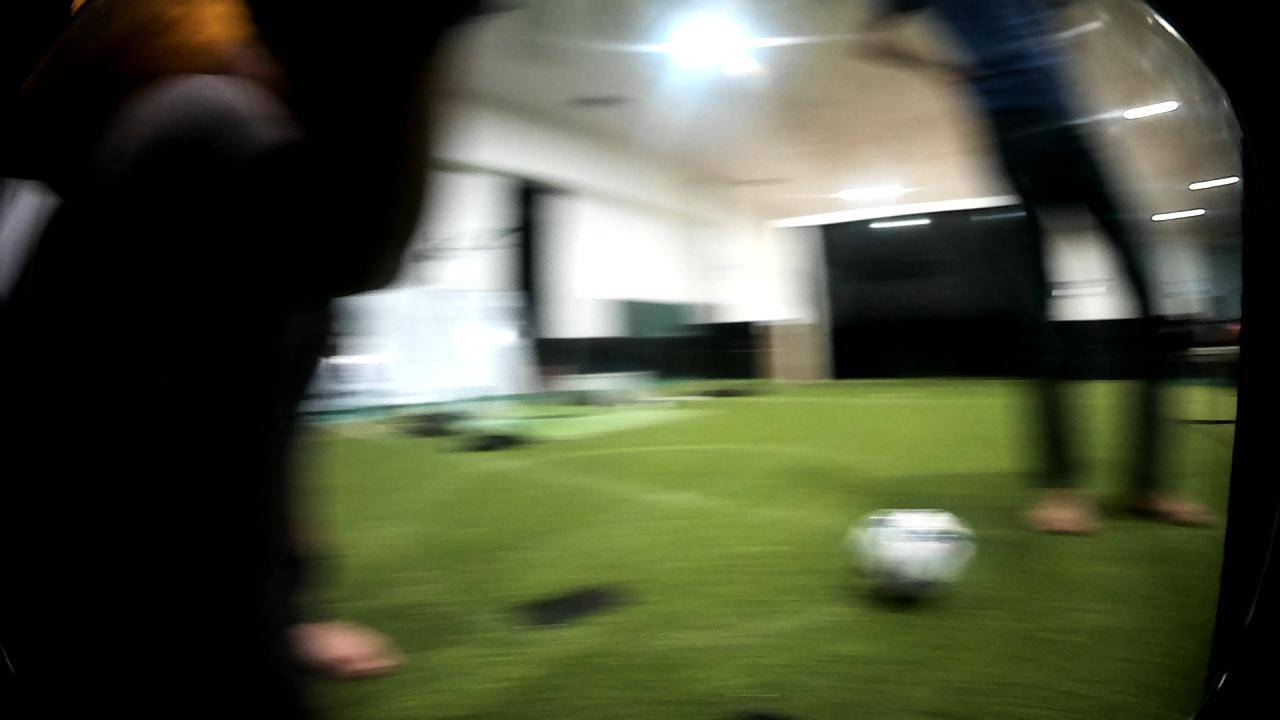ball: (837, 496, 984, 612)
